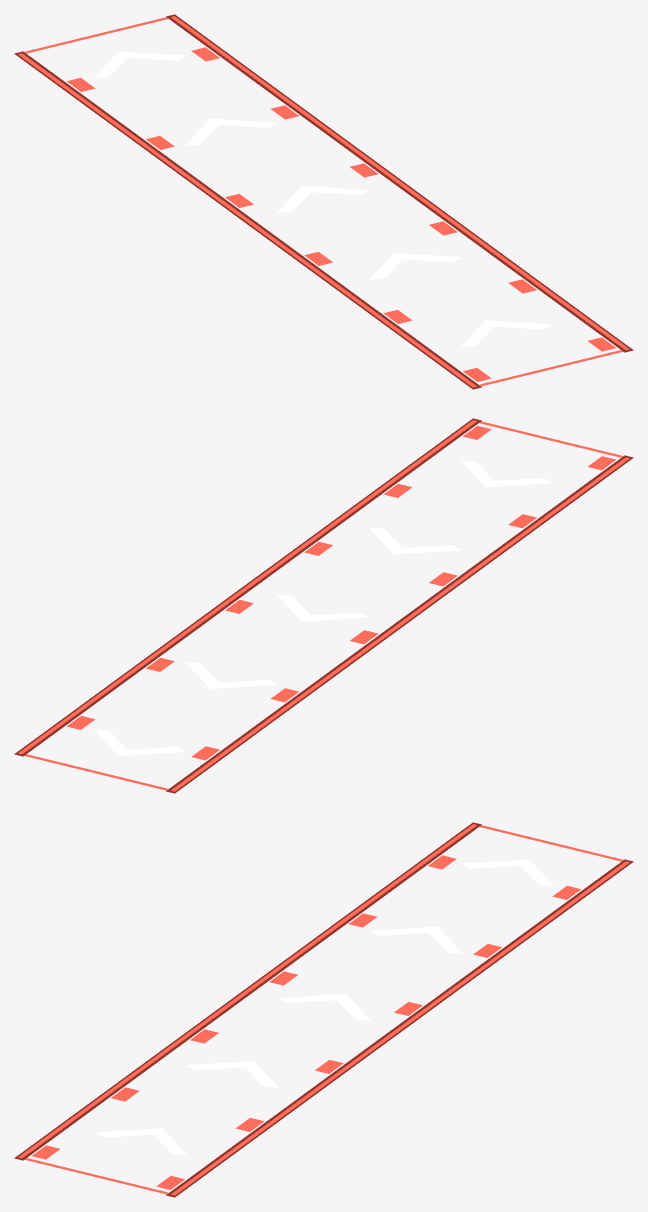
Rendered from e2-charge-lane-warning.glb.
The picture shows the model from 3 angles, top to bottom: view 1: azimuth 30°, elevation 25°; view 2: azimuth 150°, elevation 25°; view 3: azimuth 330°, elevation 25°; orthographic projection.
Visible parts, largest first — view 1: Outer dark keyline, Outer dark keyline.001, Continuous red rail, Continuous red rail.001, Directional chevron.003, Directional chevron.004, Directional chevron, Directional chevron.002, Directional chevron.001; view 2: Outer dark keyline, Outer dark keyline.001, Continuous red rail, Continuous red rail.001, Directional chevron, Directional chevron.001, Directional chevron.002, Directional chevron.003, Directional chevron.004; view 3: Outer dark keyline.001, Outer dark keyline, Continuous red rail, Continuous red rail.001, Directional chevron.003, Directional chevron.004, Directional chevron, Directional chevron.002, Directional chevron.001.
Part boxes in pixels (x1,y1,x2,y2): Outer dark keyline: (14, 51, 481, 389); Outer dark keyline.001: (166, 14, 633, 352); Continuous red rail: (18, 53, 476, 387); Continuous red rail.001: (171, 16, 629, 350); Directional chevron.003: (185, 118, 277, 145); Directional chevron.004: (94, 51, 185, 78); Directional chevron: (461, 320, 552, 346); Directional chevron.002: (277, 186, 369, 212); Directional chevron.001: (369, 253, 460, 279); Outer dark keyline: (166, 455, 633, 793); Outer dark keyline.001: (14, 418, 481, 756); Continuous red rail: (171, 457, 629, 791); Continuous red rail.001: (18, 420, 476, 754); Directional chevron: (461, 460, 552, 487); Directional chevron.001: (369, 527, 460, 554); Directional chevron.002: (277, 595, 369, 621); Directional chevron.003: (185, 662, 277, 688); Directional chevron.004: (94, 729, 185, 756); Outer dark keyline.001: (166, 859, 633, 1197); Outer dark keyline: (14, 822, 481, 1160); Continuous red rail: (18, 824, 476, 1158); Continuous red rail.001: (171, 861, 629, 1195); Directional chevron.003: (370, 926, 462, 953); Directional chevron.004: (462, 859, 553, 886); Directional chevron: (95, 1128, 186, 1154); Directional chevron.002: (278, 994, 370, 1020); Directional chevron.001: (187, 1061, 278, 1087).
Bounding box in the file's own units: 1.7 × 0.0018 × 8.4.
